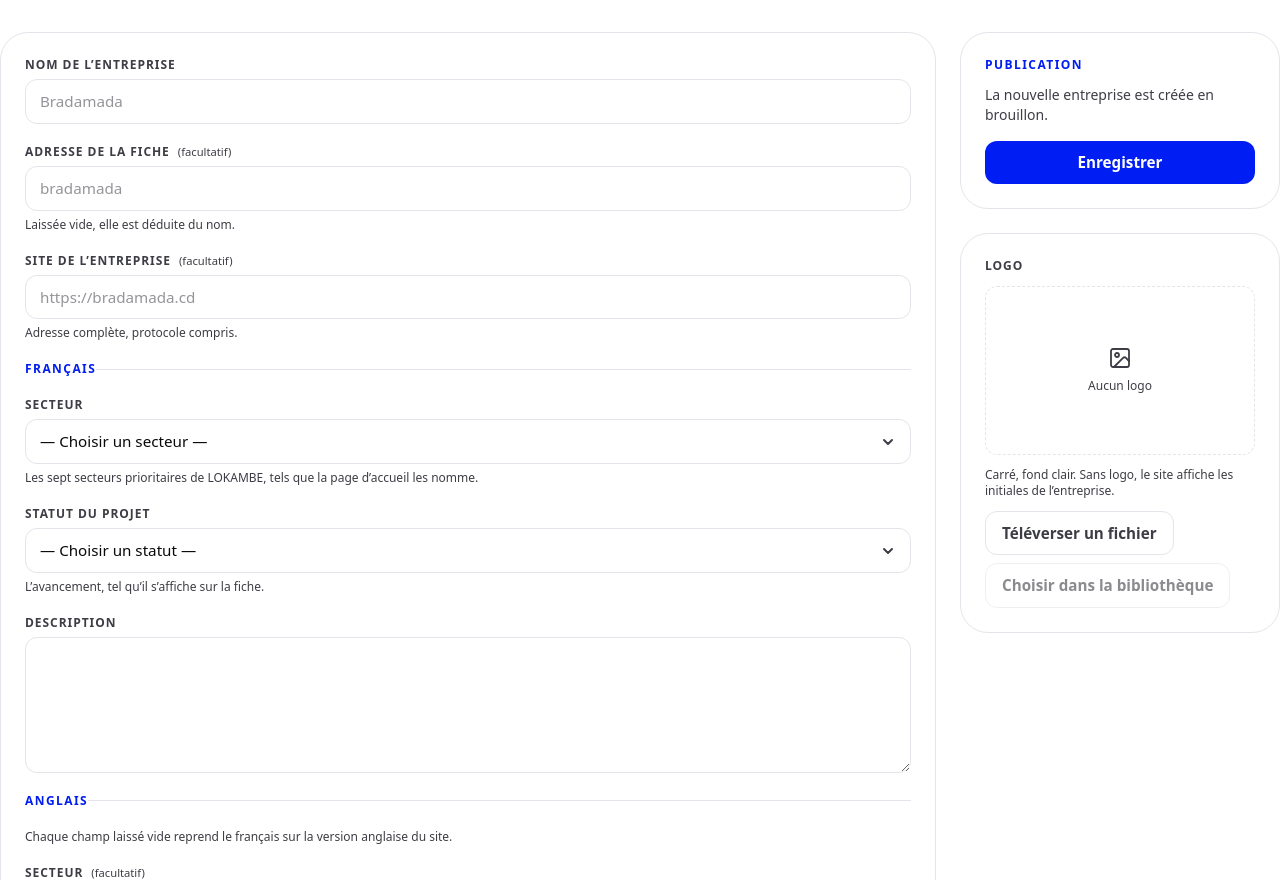
Test case: PortfolioForm › signale chaque champ fautif sous le champ, sans rien envoyer à l’API
Click the button "Enregistrer".
click(1120, 162)  # box [985, 141, 1255, 184]
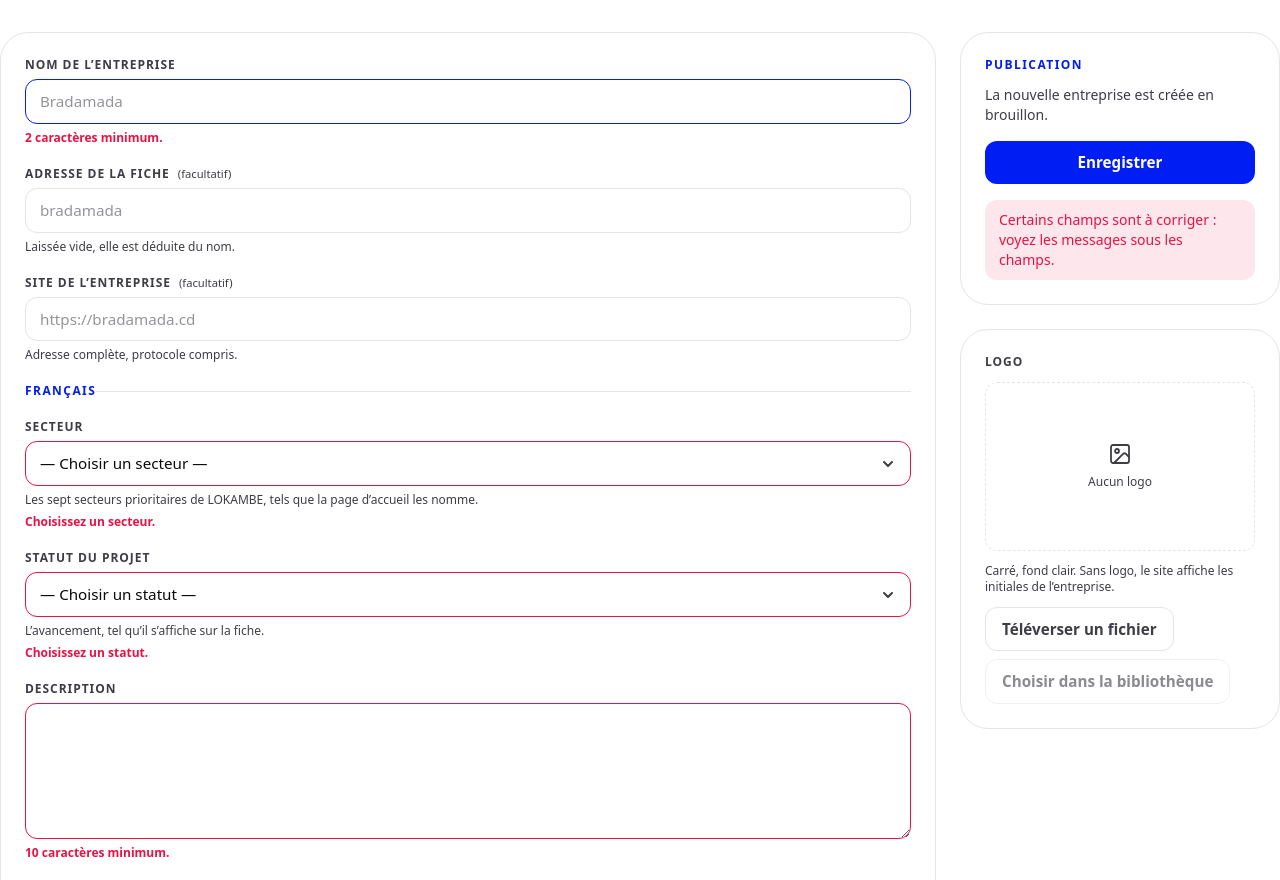
Check: the text "10 caractères minimum." is shown, box [25, 844, 169, 861]
Check: the text "2 caractères minimum." is shown once, box [25, 129, 163, 146]
Check: the text "Choisissez un secteur." is shown, box [25, 513, 155, 530]
